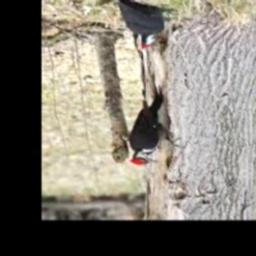Woodpecker: (128, 85, 184, 165), (119, 0, 179, 49)
